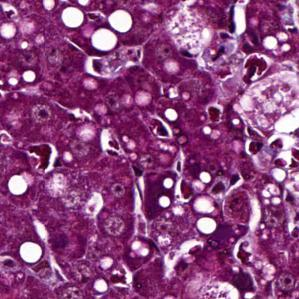ballooning: (234, 68, 299, 139)
